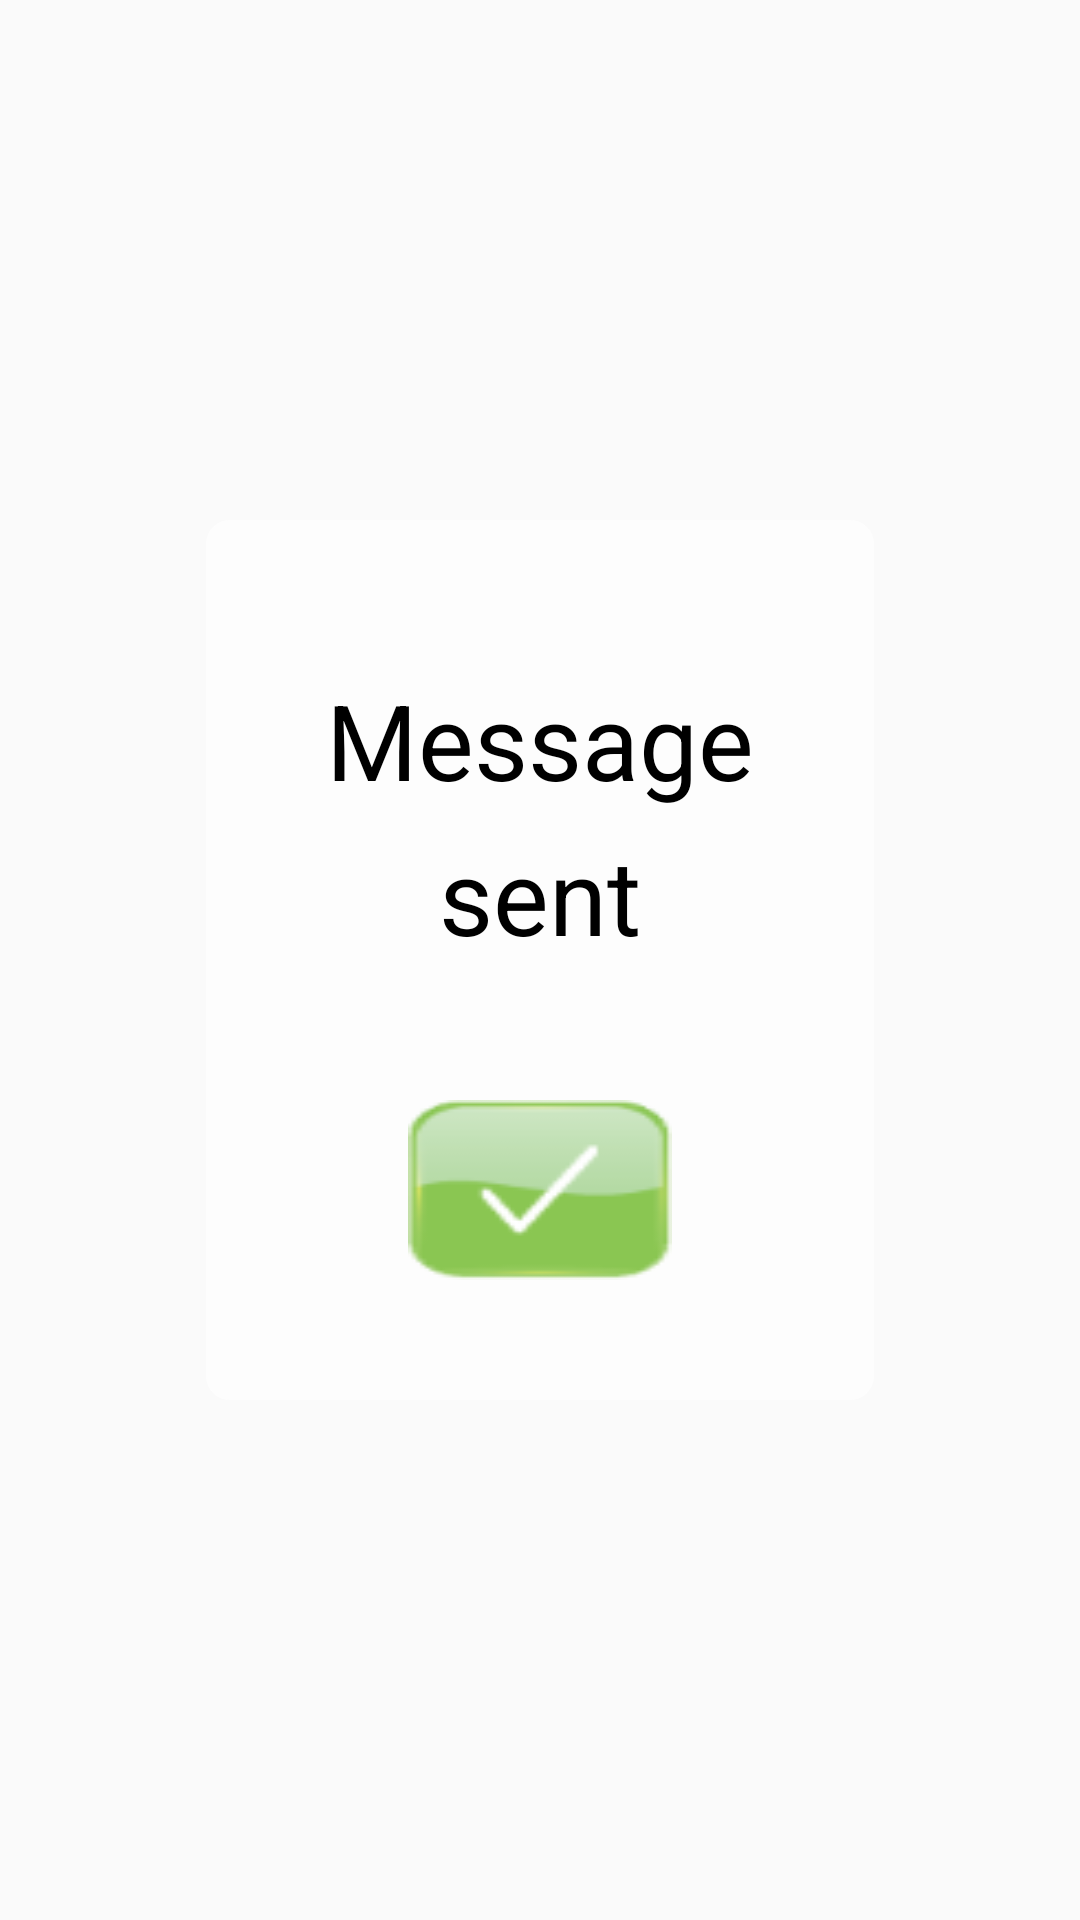

Point at icon controls on the screen. Image size 1080w x 1920h, points as (x=x, y=y).
message ok: (x=540, y=1189)
